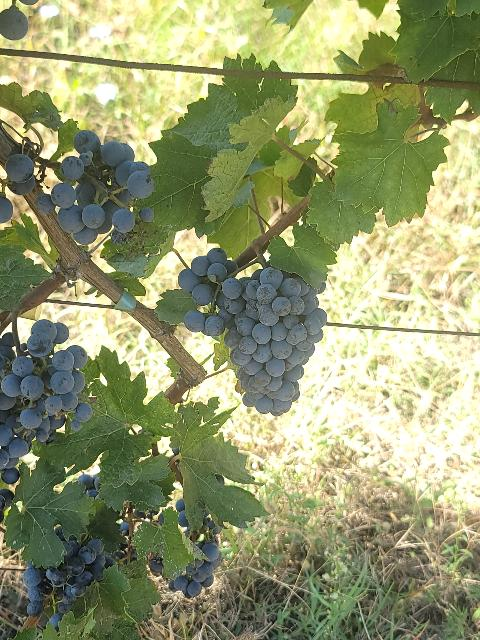grapes: (179, 248, 328, 415), (0, 319, 92, 485), (36, 130, 155, 246)
